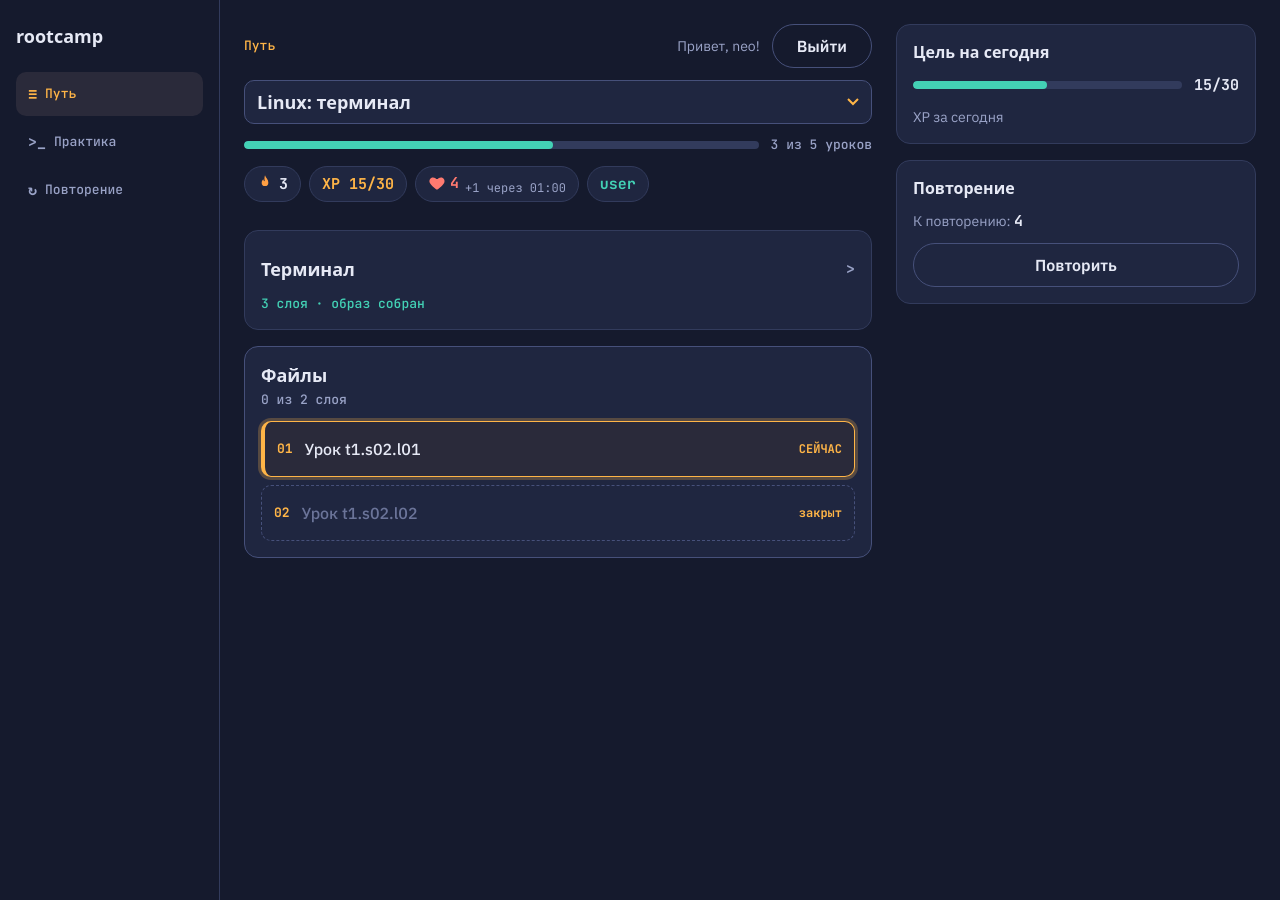
Test: Path screen › collapses a finished section into «N слоёв · образ собран»
Check: the text "3 слоя · образ собран" is shown, box [261, 295, 425, 312]
Check: the text "Урок t1.s01.l01" is not shown
Click the button "Терминал >": (308, 269) [261, 247, 855, 291]
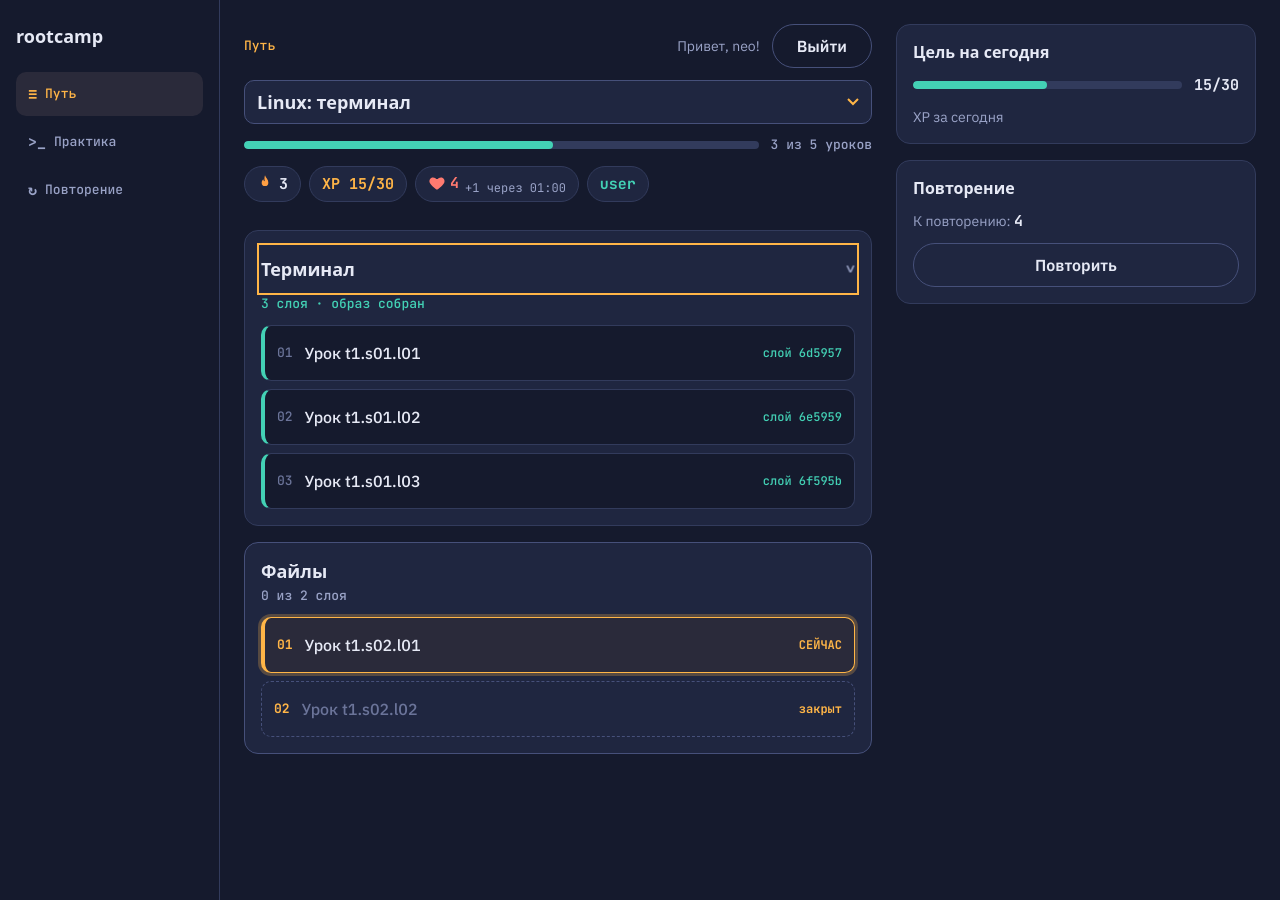
Check: the text "Урок t1.s01.l01" is shown, box [305, 343, 420, 363]
